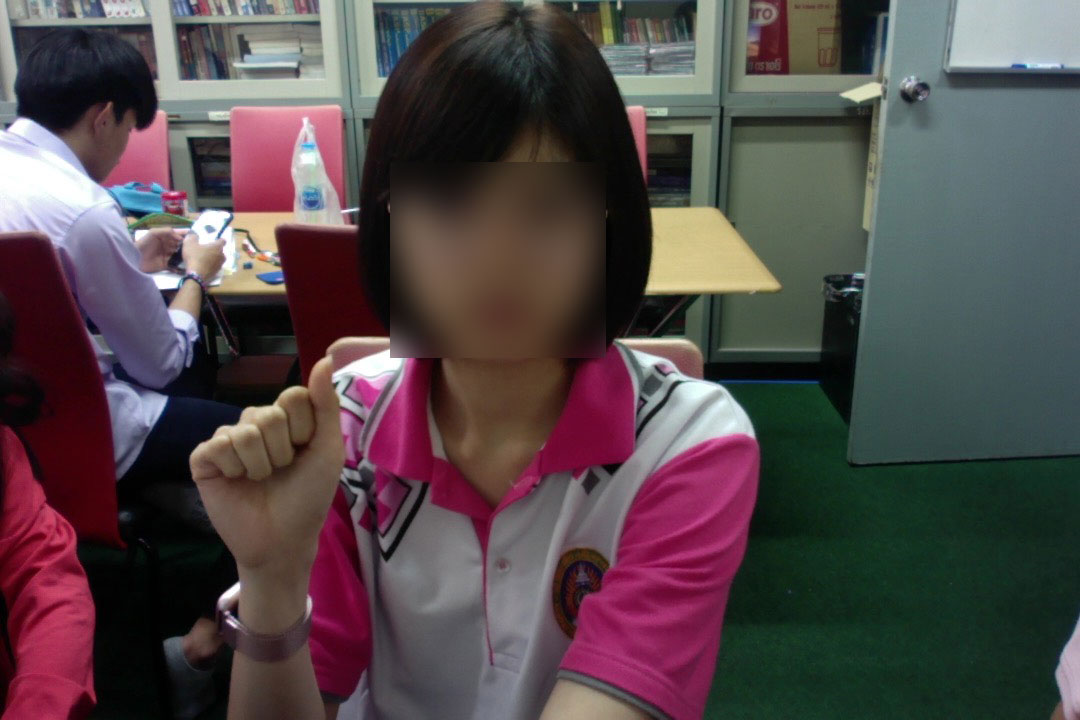or: (182, 343, 352, 594)
